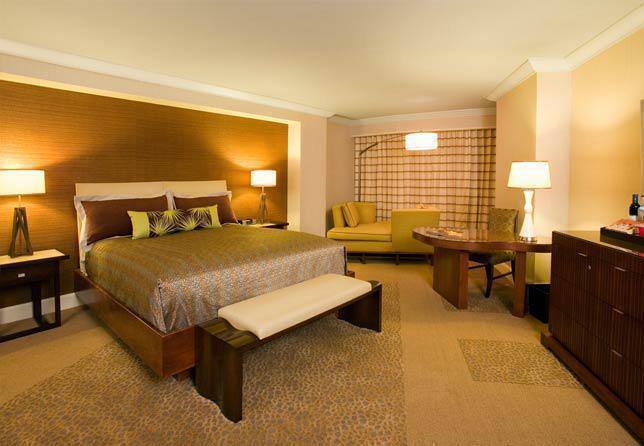Armario: (550, 228, 642, 433)
Cama: (82, 176, 357, 390)
